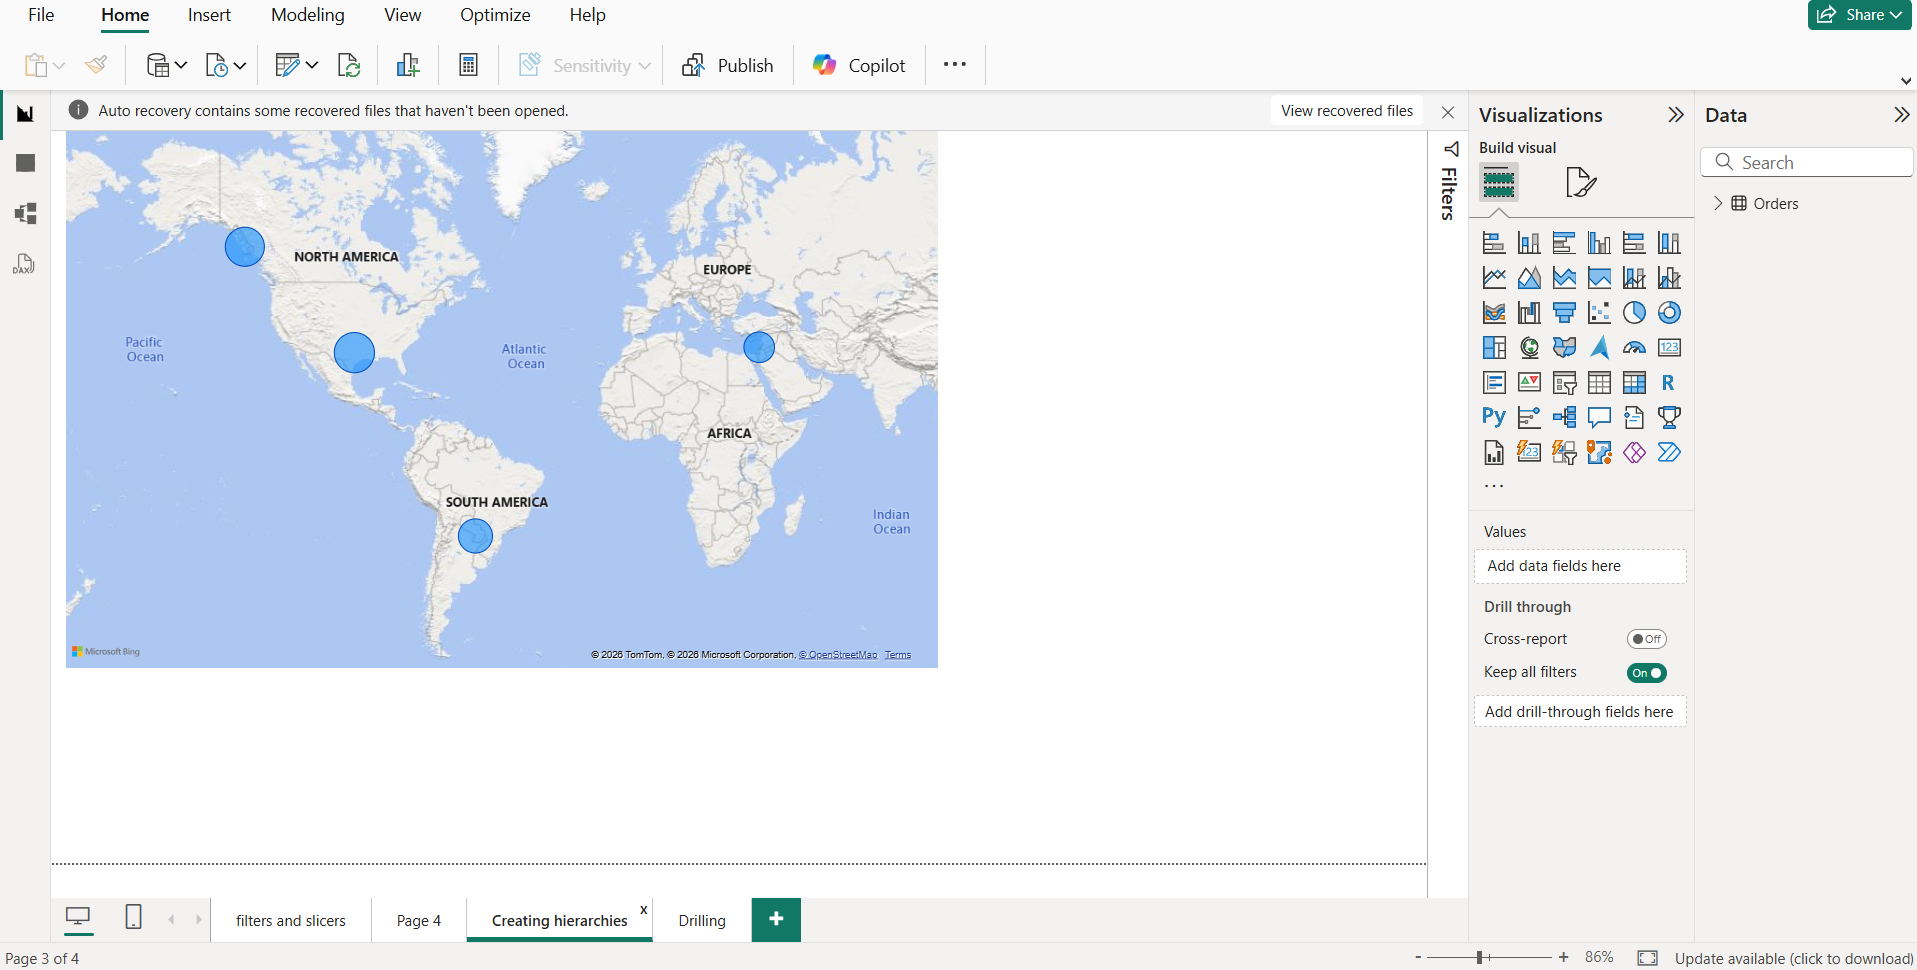

Layout of this report page (visuals, bound fields, positions):
{"tool":"powerbi","page":{"name":"Creating hierarchies","canvas":[1280,720],"ordinal":2},"visuals":[{"type":"map","fields":{"Category":["Orders.Region","Orders.Country","Orders.City"],"Size":["Sum(Orders.Sales)"]},"box":[9.3,0,820.9,541.9],"z":0}]}

Visuals, with their boxes on the page's 1280x720 design canvas (x1, y1, x2, y2). These are canvas units, not pixel positions in the 1917x970 screenshot, which may show the page scaled, cropped or inside an application window:
map - Orders.Region x Orders.Country: detection(9, 0, 830, 542)
